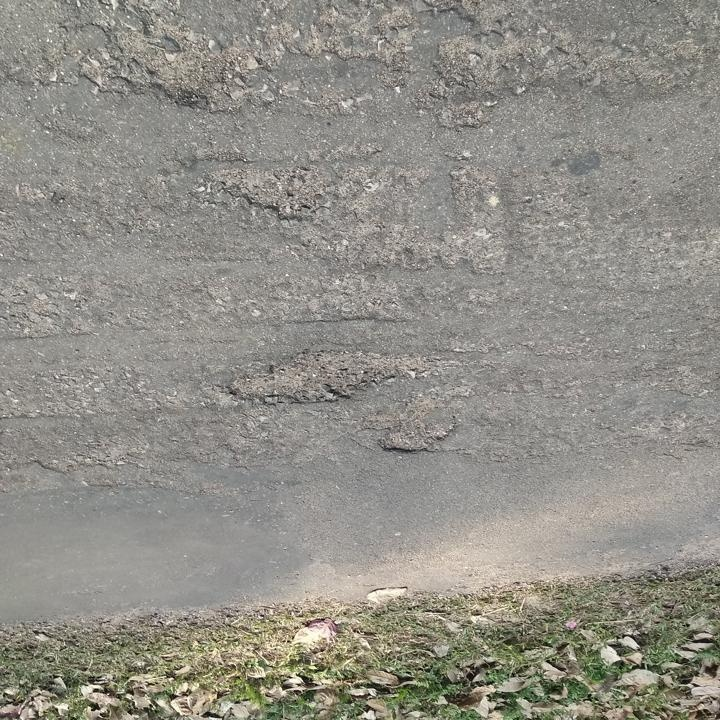pothole: (224, 350, 412, 407), (135, 28, 250, 114), (212, 165, 336, 225), (430, 36, 520, 91), (376, 413, 459, 458)
